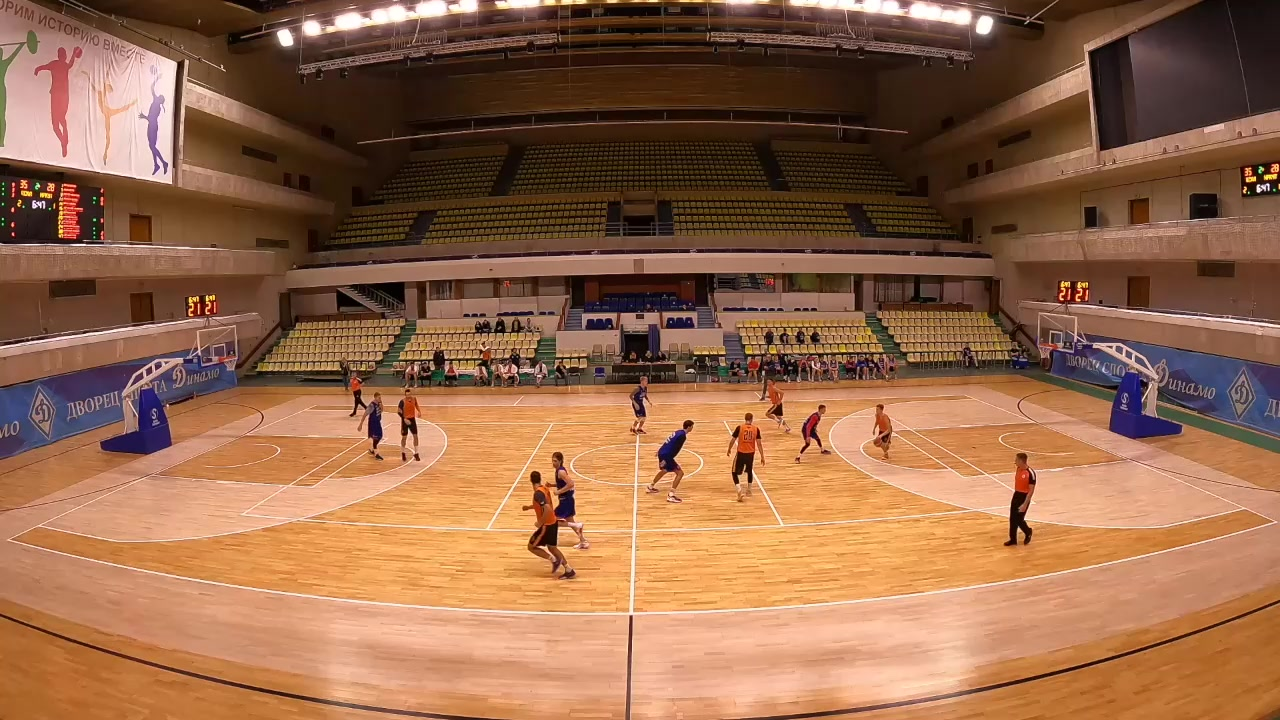basketball: (868, 431, 895, 457)
